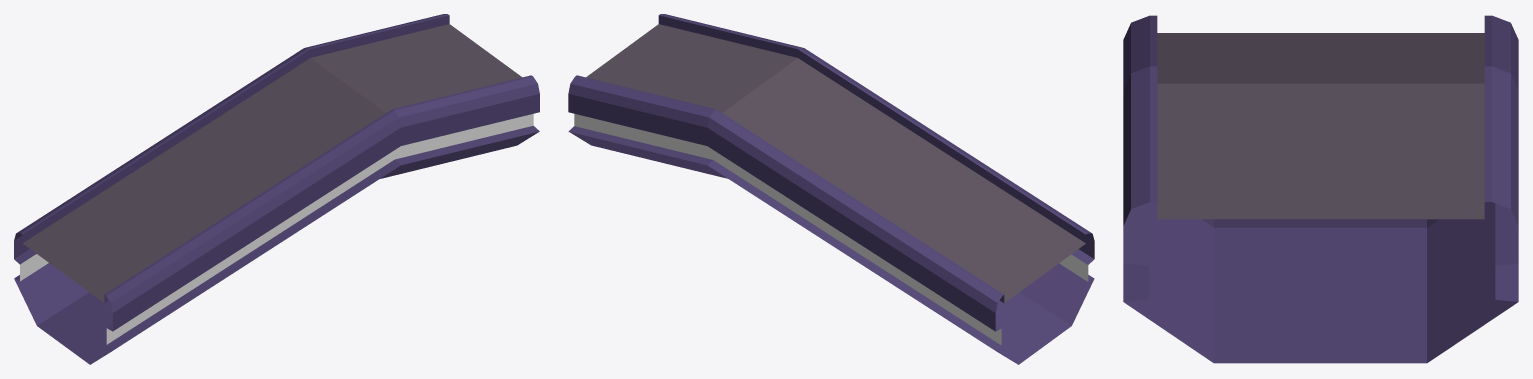
The model's file is Routes_Monte.fbx.
The picture shows the model from 3 angles, left to right: view 1: azimuth 30°, elevation 25°; view 2: azimuth 150°, elevation 25°; view 3: azimuth 270°, elevation 25°; orthographic projection. The views are drawn at different scales.
Visible parts, largest first — view 1: Route_Monte; view 2: Route_Monte; view 3: Route_Monte.
Boxes of the visible parts, <box> form: Route_Monte: <box>14,14,539,364</box>; Route_Monte: <box>568,14,1094,364</box>; Route_Monte: <box>1123,15,1518,363</box>.
Size of the model in its own units: 223 by 97.57 by 89.23.
